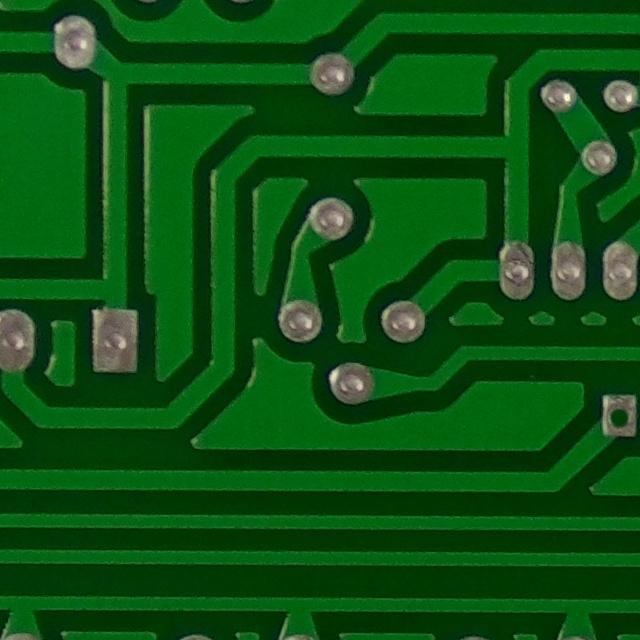missing_hole: (589, 386, 640, 450)
